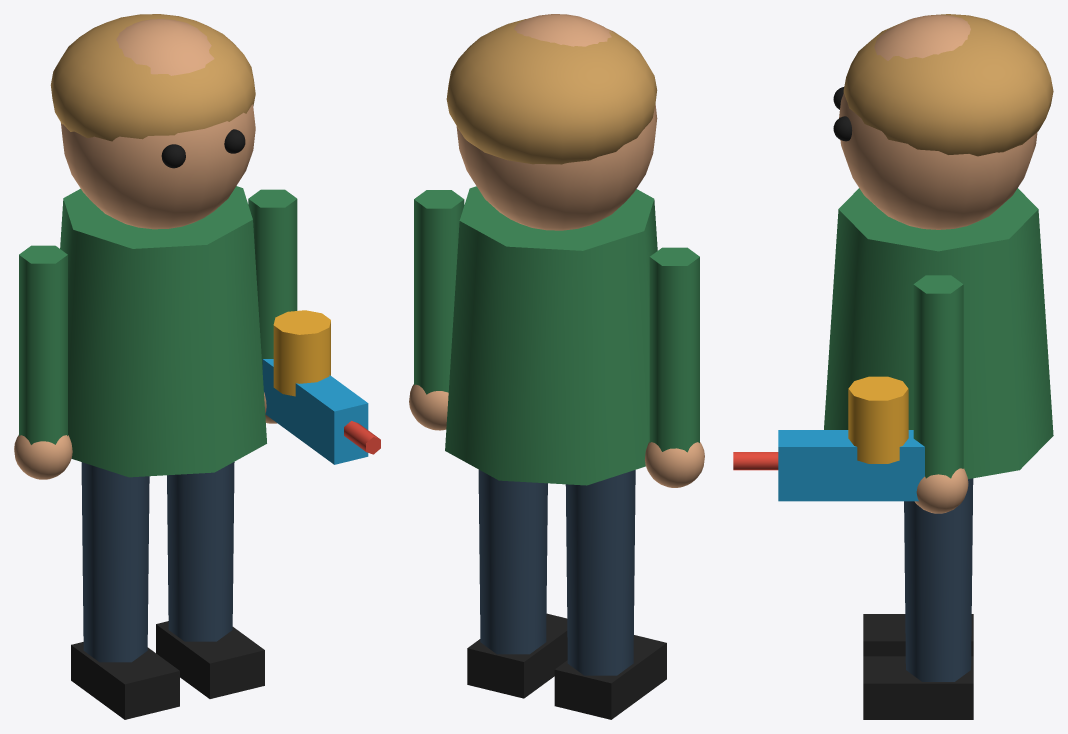
File: kid_water_1.glb
3 renders of one model, left to right at view 1: azimuth 30°, elevation 25°; view 2: azimuth 150°, elevation 25°; view 3: azimuth 270°, elevation 25°, orthographic. The views are drawn at different scales.
Visible parts, largest first — view 1: object 1, head, legL, armR, legR, armL; view 2: object 1, head, legL, legR, armL, armR; view 3: object 1, head, armR, legR, legL.
Part boxes in pixels (x1=…): object 1: x1=60, y1=186, x2=266, y2=477; head: x1=50, y1=14, x2=255, y2=229; legL: x1=71, y1=462, x2=179, y2=719; armR: x1=248, y1=189, x2=380, y2=464; legR: x1=156, y1=462, x2=264, y2=698; armL: x1=14, y1=245, x2=72, y2=479; object 1: x1=445, y1=186, x2=657, y2=485; head: x1=446, y1=14, x2=657, y2=230; legL: x1=554, y1=470, x2=666, y2=719; legR: x1=467, y1=470, x2=567, y2=698; armL: x1=645, y1=247, x2=704, y2=487; armR: x1=409, y1=190, x2=464, y2=430; object 1: x1=824, y1=188, x2=1053, y2=479; head: x1=833, y1=14, x2=1053, y2=229; armR: x1=733, y1=275, x2=968, y2=513; legR: x1=863, y1=478, x2=973, y2=719; legL: x1=863, y1=614, x2=973, y2=656.
Bounding box in the file's own units: 0.66 × 1.46 × 0.64.
